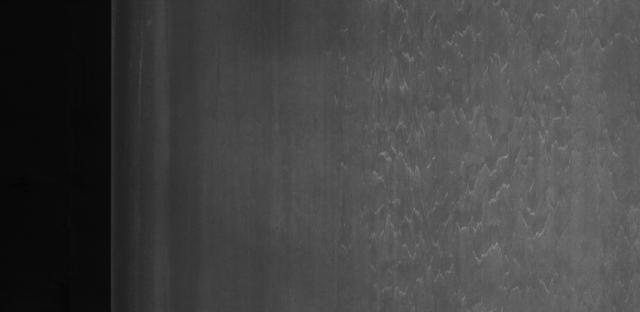silk_spot: (374, 26, 589, 124), (286, 118, 448, 194), (346, 208, 462, 297), (457, 130, 565, 214), (472, 226, 569, 288)
